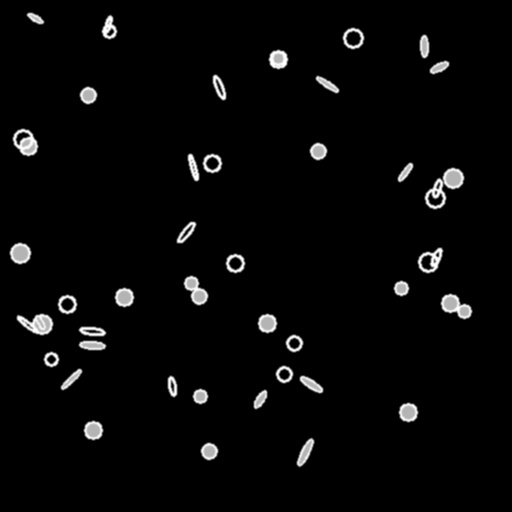pseudomonas: (296, 438, 314, 466), (60, 368, 82, 390), (299, 374, 323, 394), (176, 220, 196, 244), (16, 314, 38, 334), (315, 75, 339, 93), (212, 75, 226, 99), (187, 153, 199, 181), (397, 163, 413, 181), (429, 60, 449, 74), (253, 390, 267, 408), (431, 178, 443, 198), (26, 12, 44, 24), (430, 248, 442, 266), (79, 341, 105, 349), (80, 327, 104, 335), (34, 314, 46, 330), (168, 376, 176, 396), (421, 35, 427, 57), (104, 16, 112, 32)
synechocystis: (11, 244, 29, 262), (426, 189, 444, 207), (14, 130, 32, 148), (419, 253, 437, 271), (33, 315, 51, 333), (444, 169, 462, 187), (344, 29, 362, 47), (270, 51, 286, 67), (442, 295, 458, 311), (227, 255, 243, 271), (20, 138, 36, 154), (400, 404, 416, 420), (59, 296, 75, 312), (85, 422, 101, 438), (259, 315, 275, 331), (116, 289, 132, 305), (204, 155, 220, 171), (311, 144, 325, 158), (202, 444, 216, 458), (287, 336, 301, 350), (192, 289, 206, 303), (277, 367, 291, 381), (81, 88, 95, 102), (272, 52, 284, 64), (185, 277, 197, 289), (395, 282, 407, 294), (103, 25, 115, 37), (194, 390, 206, 402), (458, 305, 470, 317), (45, 353, 57, 365)
